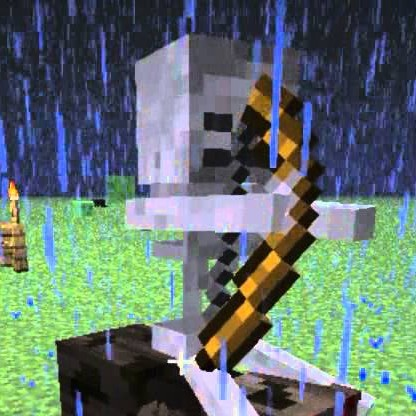skeleton: (127, 28, 317, 270)
